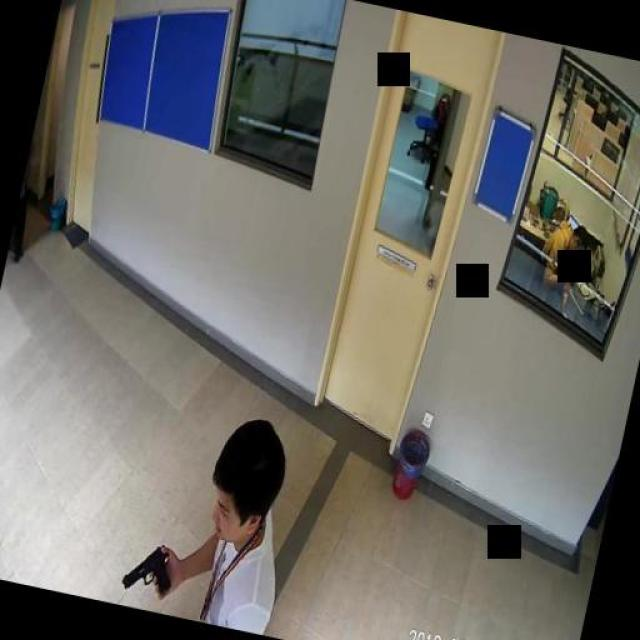gun: (119, 535, 178, 597)
